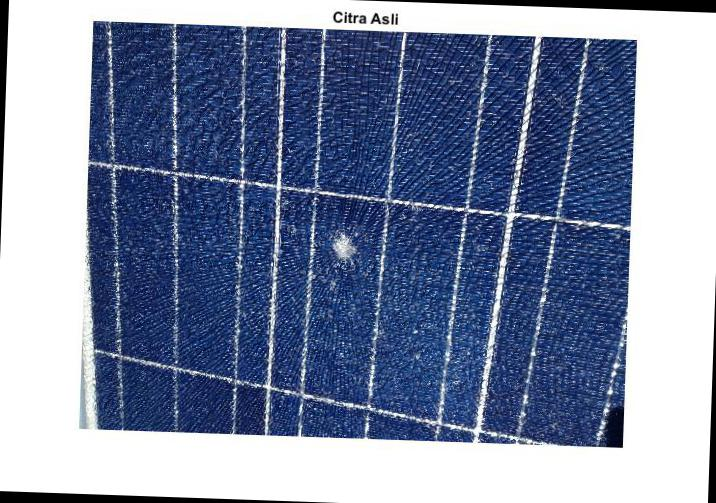Crack: (80, 21, 636, 448), (278, 184, 422, 316)
